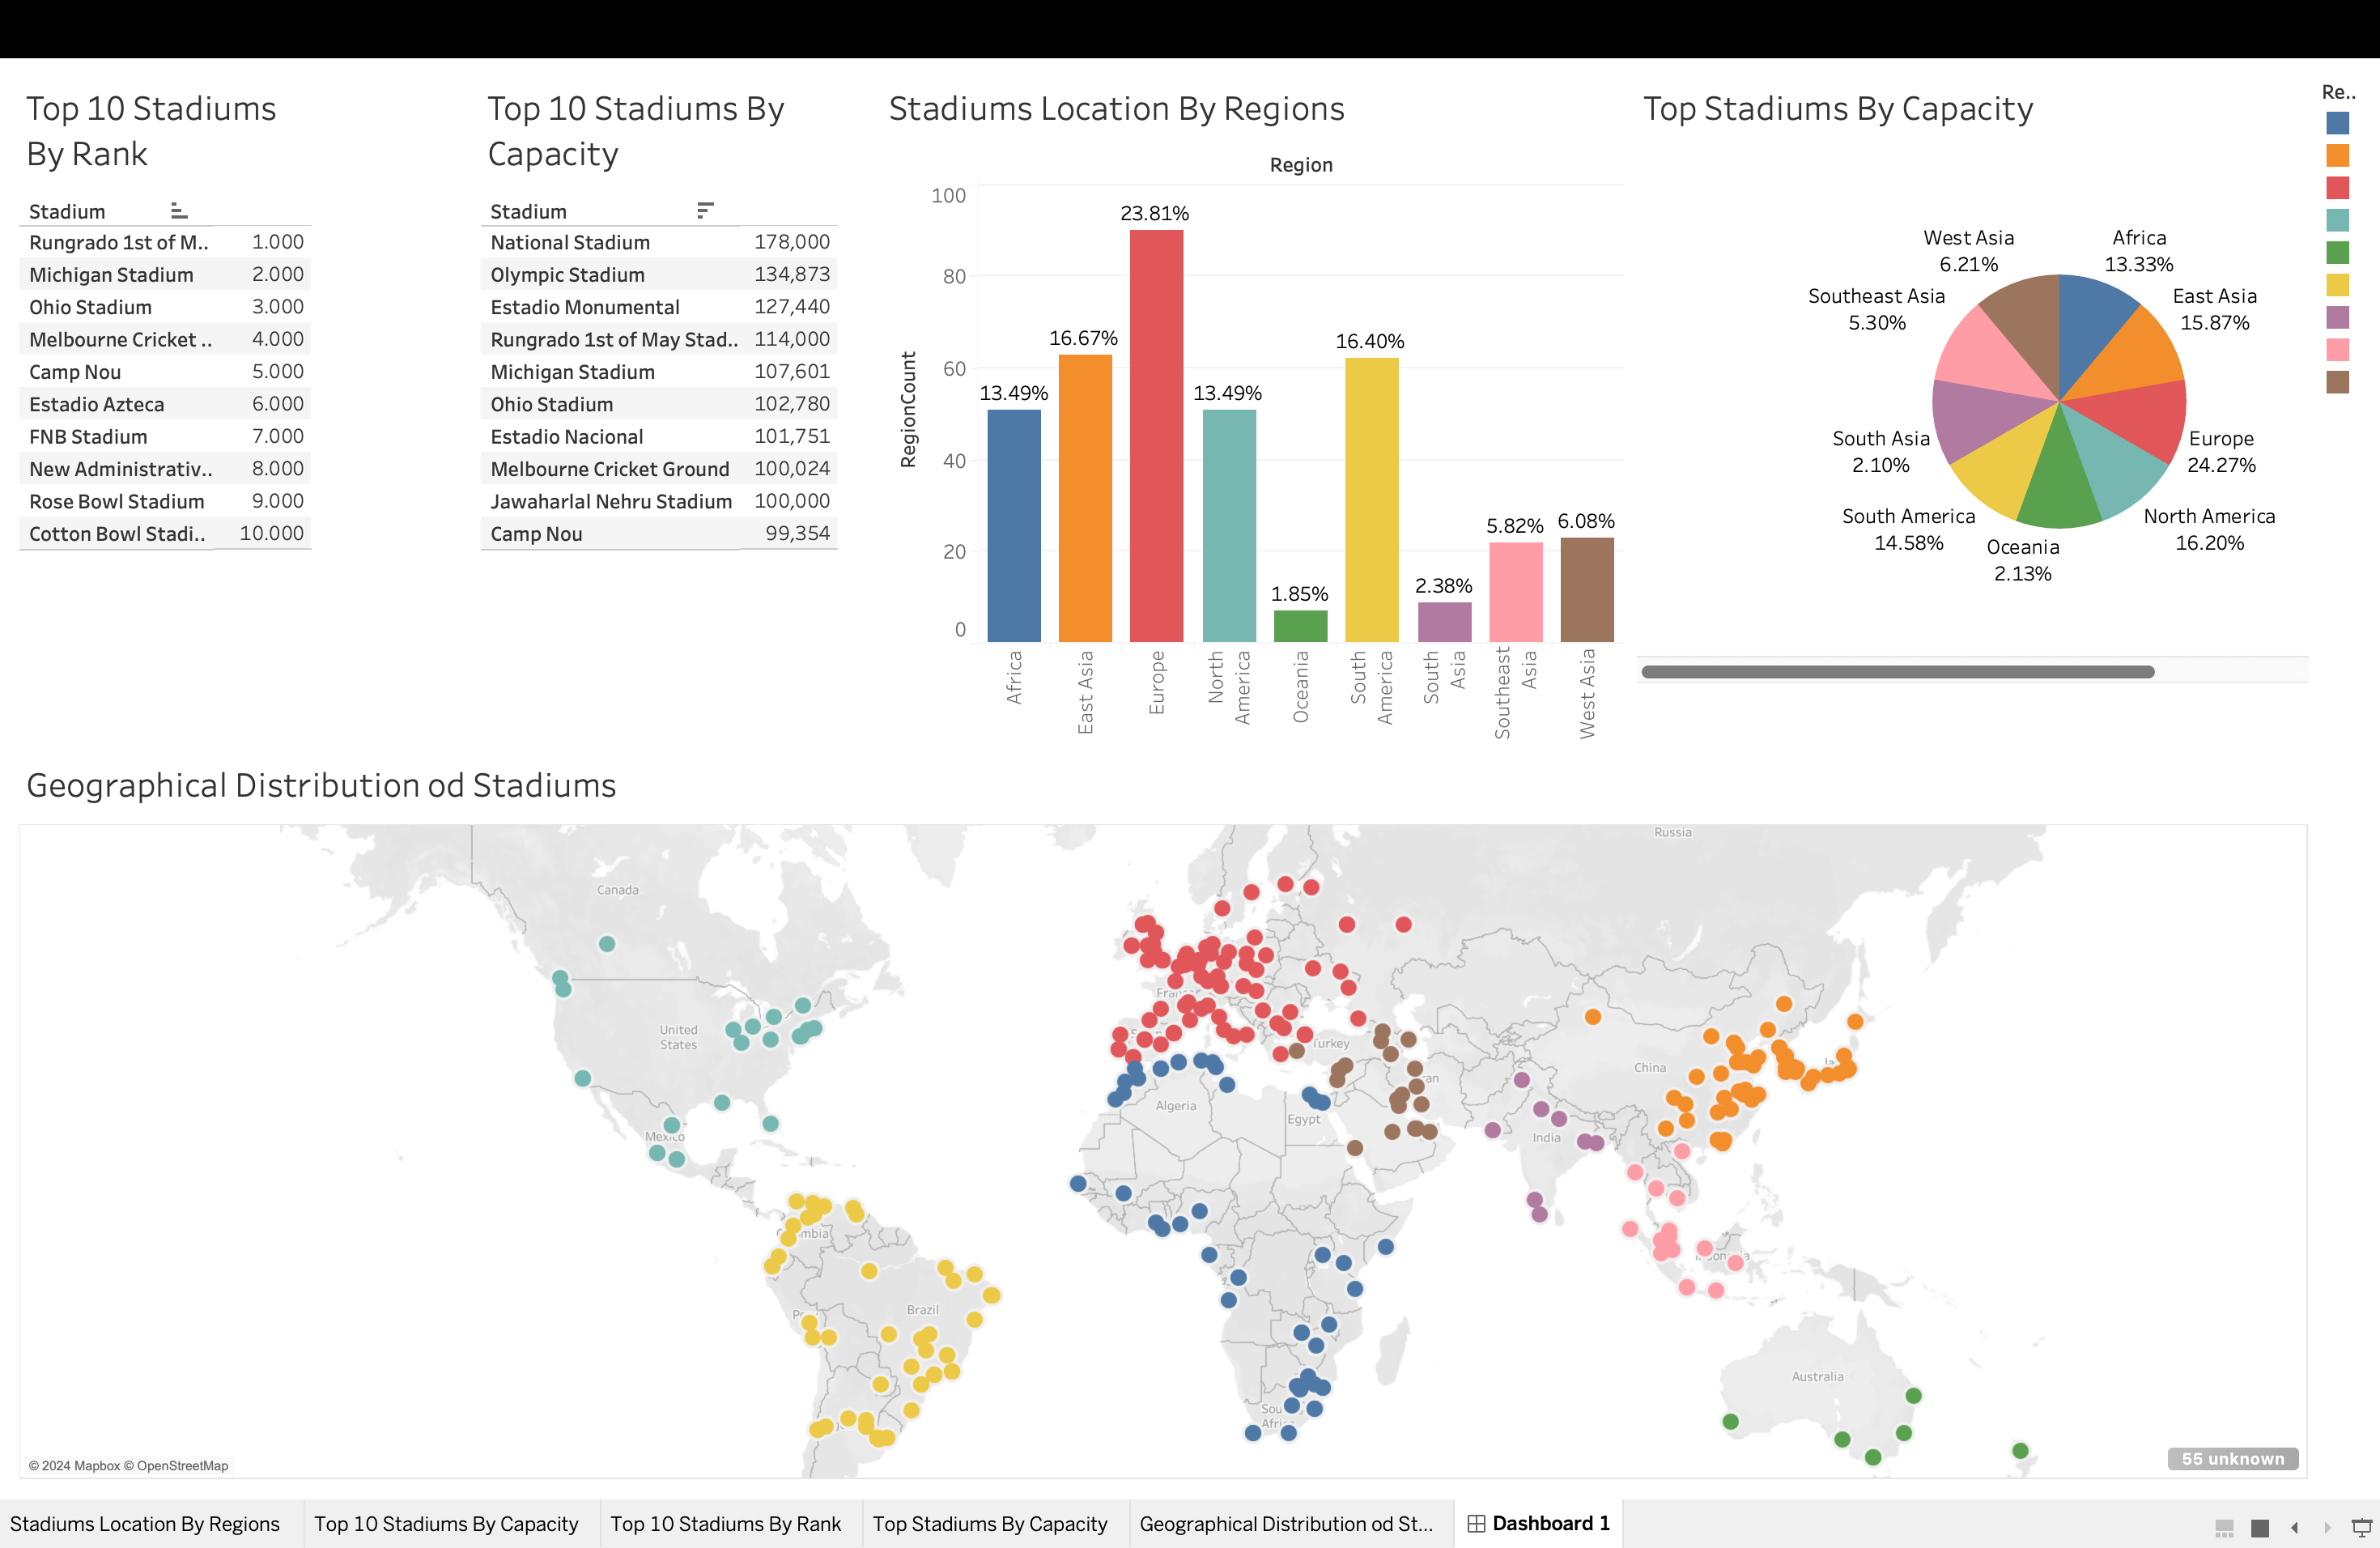

The page's visual inventory and layout, read from the dashboard file:
{"tool":"tableau","page":{"name":"Dashboard 1","canvas":[1000,1000],"units":"permille","ordinal":0},"visuals":[{"type":"worksheet","title":"Top 10 Stadiums By Rank","mark":"Automatic","rows":["stadium"],"box":[6.4,9.7,193,469.2]},{"type":"worksheet","title":"Top 10 Stadiums By Capacity","mark":"Automatic","rows":["stadium"],"box":[199.3,9.7,167.7,469.2]},{"type":"worksheet","title":"Stadiums Location By Regions","mark":"Automatic","rows":["Calculation_154177958551982080"],"cols":["region"],"box":[367,9.7,315.2,469.2]},{"type":"worksheet","title":"Top Stadiums By Capacity","mark":"Pie","box":[682.2,9.7,286,469.2]},{"type":"legend","title":"Geographical Distribution od Stadiums","param":"[federated.0zkvqxp043gmv419xef4u1t04wfv].[none:region:nk]","box":[968.2,9.7,25.4,248.8]},{"type":"worksheet","title":"Geographical Distribution od Stadiums","mark":"Automatic","box":[6.4,478.9,961.9,511.4]}]}

Visuals, with their boxes on the dashboard's canvas, which has no fixed pixel size, in thousandths of its width and height (x1, y1, x2, y2). These are canvas units, not pixel positions in the 2380x1548 screenshot, which may show the page scaled, cropped or inside an application window:
"Top 10 Stadiums By Rank" worksheet: l=6, t=10, r=199, b=479
"Top 10 Stadiums By Capacity" worksheet: l=199, t=10, r=367, b=479
"Stadiums Location By Regions" worksheet: l=367, t=10, r=682, b=479
"Top Stadiums By Capacity" worksheet (Pie marks): l=682, t=10, r=968, b=479
"Geographical Distribution od Stadiums" legend: l=968, t=10, r=994, b=258
"Geographical Distribution od Stadiums" worksheet: l=6, t=479, r=968, b=990
